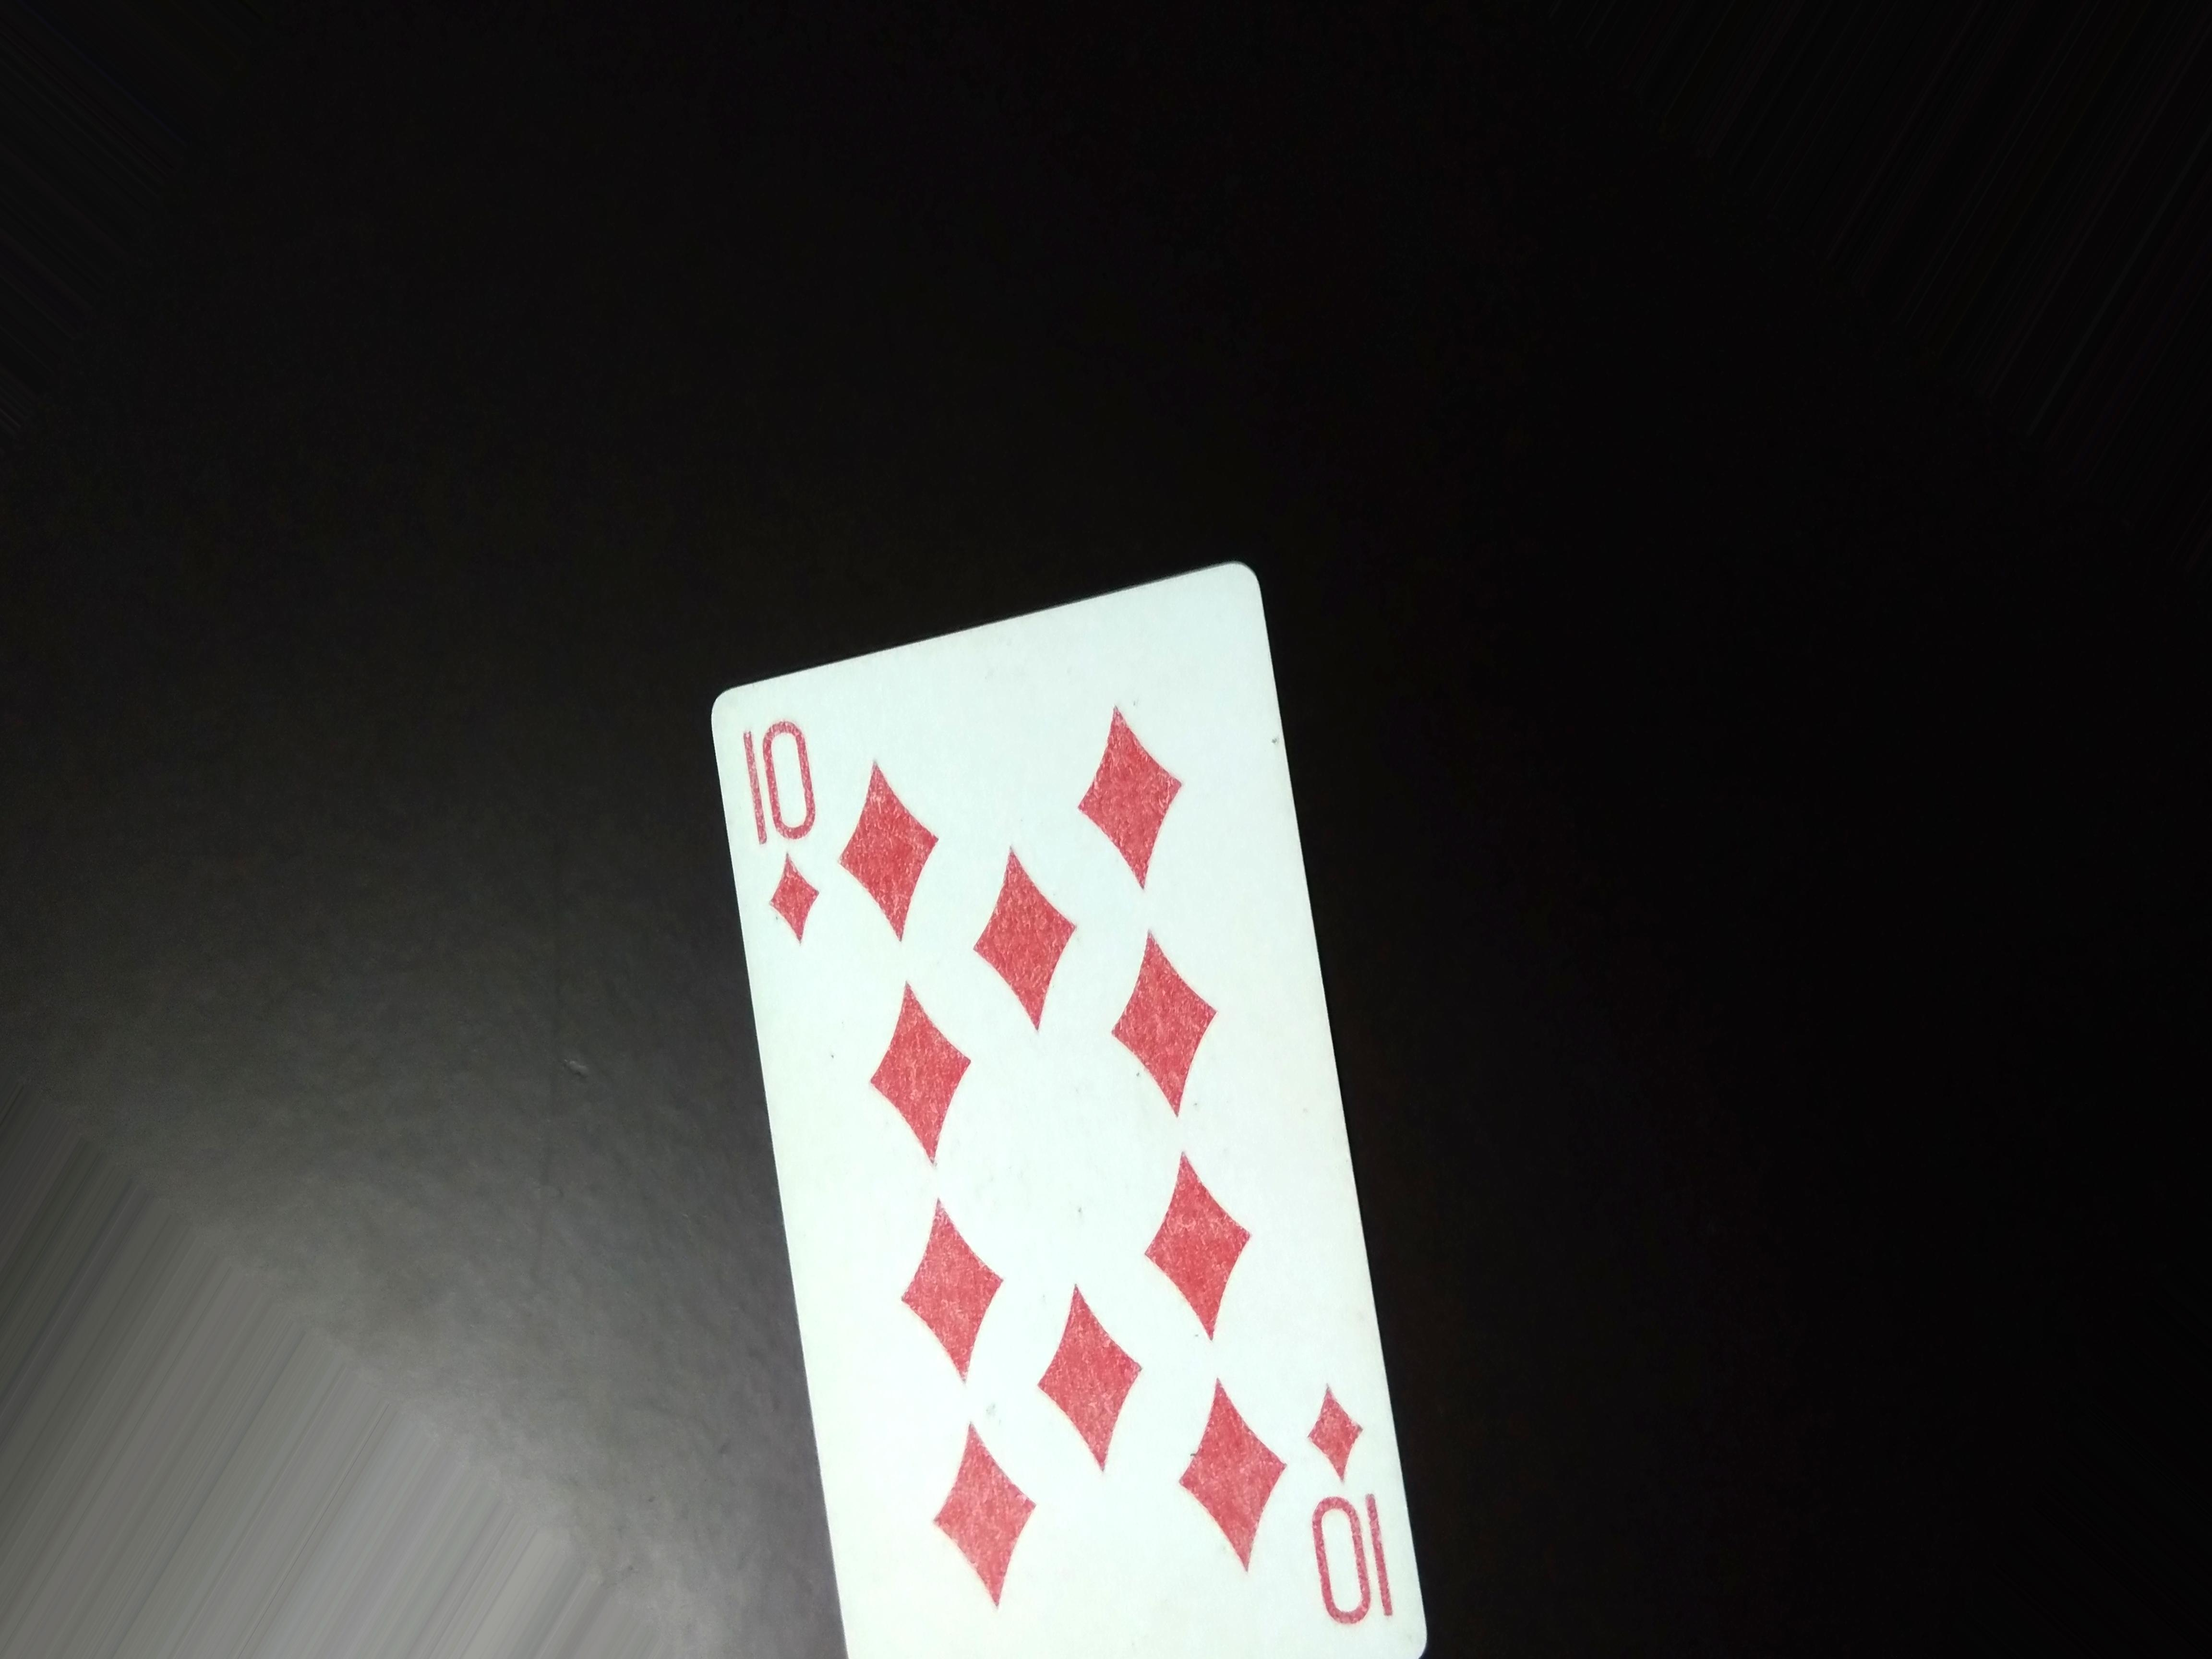10D: (738, 706, 827, 955)
